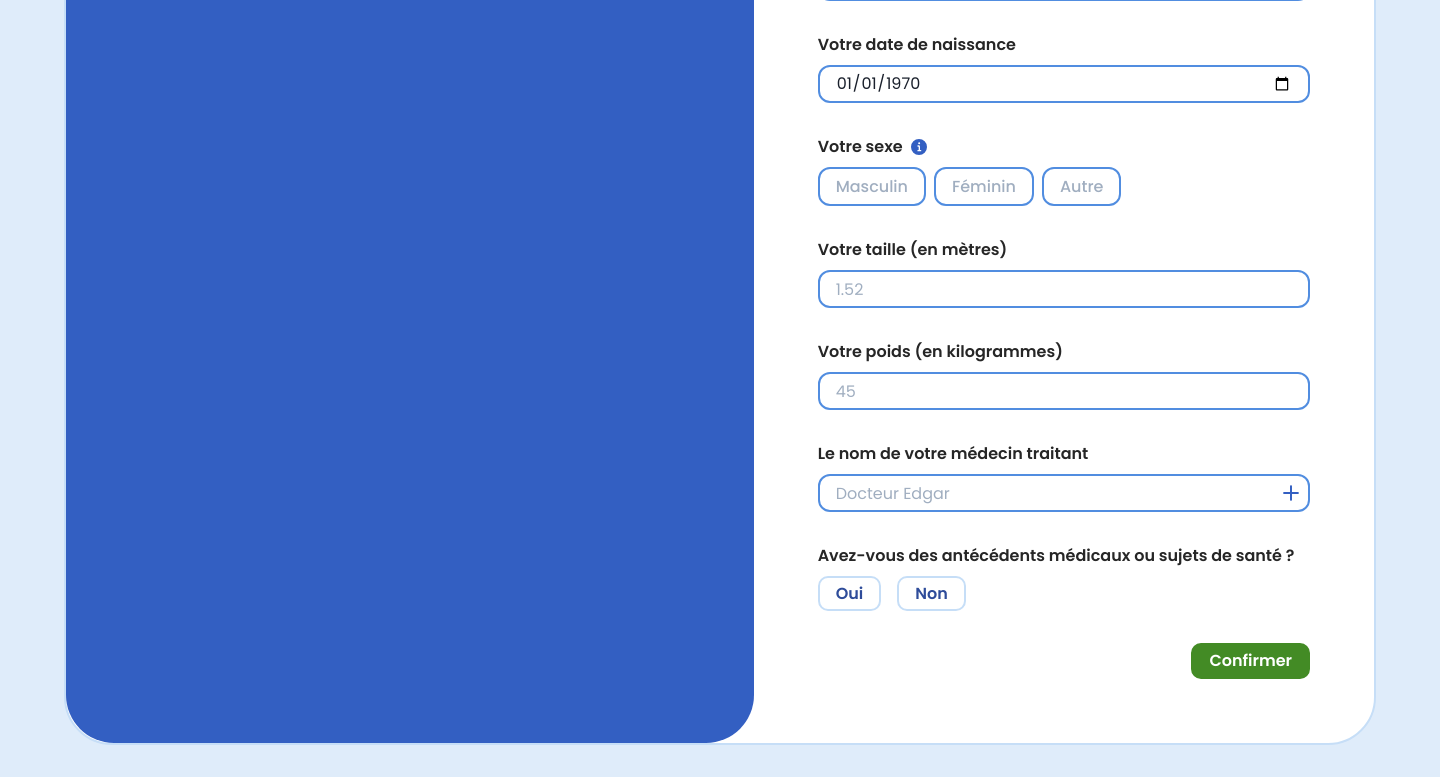
Test: Personal Info Page tests - Desktop › Working page › Error states › Bad weight (too big)
This screenshot has width=1440, height=777.
(page scrolled)
Type "400" into the number field with id "edgar-onboardingPersonalPage-formWeight-input" at [1064, 391], box [818,372,1310,410]
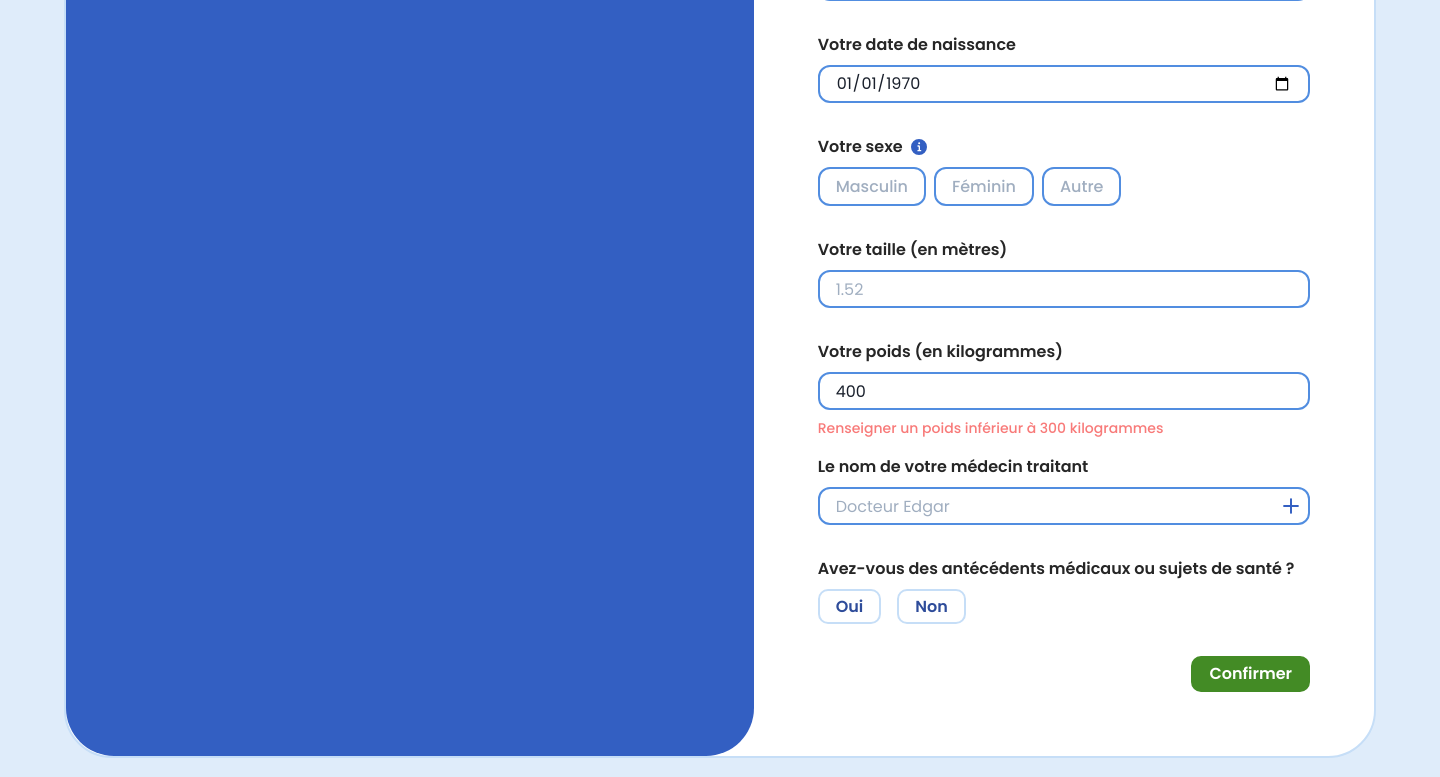
Expected: the text "Renseigner un poids inférieur à 300 kilogrammes" is shown, [818,418,1163,439]
Expected: the text with id "edgar-onboardingPersonalPage-formWeightErrorMax-text" reads "Renseigner un poids inférieur à 300 kilogrammes", [818,418,1164,439]
